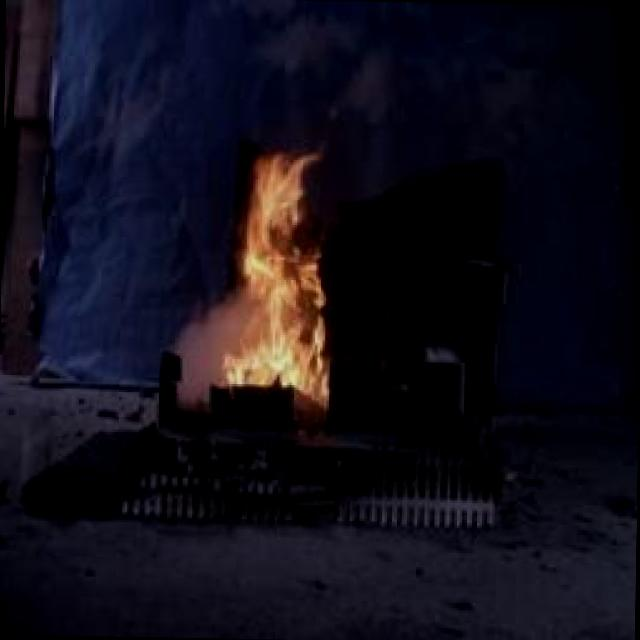fire: (200, 125, 347, 412)
